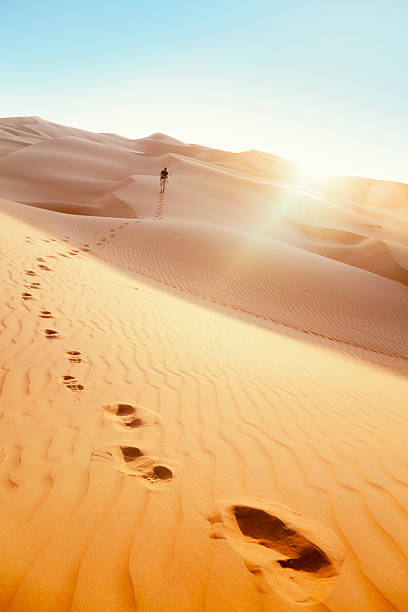human_footprint: (209, 498, 344, 604), (91, 441, 181, 487), (102, 402, 159, 429), (60, 375, 83, 390), (66, 350, 85, 362), (41, 328, 62, 338), (39, 309, 54, 318)
